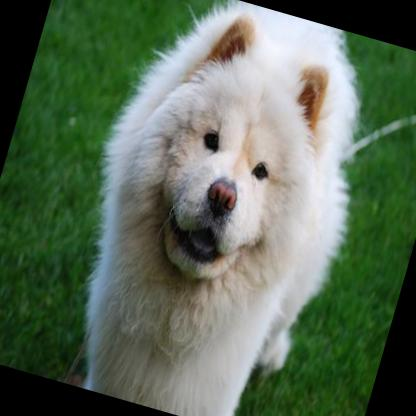chow: (34, 0, 403, 416)
